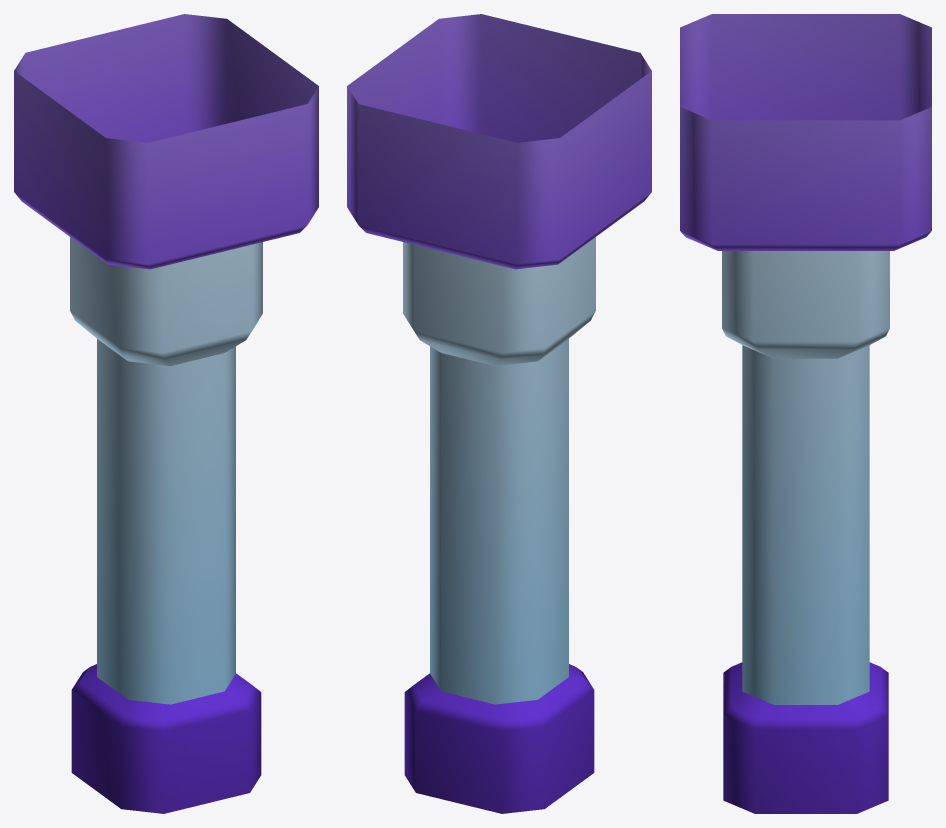
Rendered from SM_Factory_Pillar.fbx.
3 views of the same model, side by side, from view 1: azimuth 30°, elevation 25°; view 2: azimuth 150°, elevation 25°; view 3: azimuth 270°, elevation 25° (orthographic). The views are drawn at different scales.
Visible parts, largest first — view 1: pCube6; view 2: pCube6; view 3: pCube6.
Boxes of the visible parts, x1,y1,x2,y2 form: pCube6: [14, 14, 318, 813]; pCube6: [347, 14, 651, 813]; pCube6: [680, 14, 931, 813].
Size of the model in its own units: 96.16 by 96.16 by 300.
